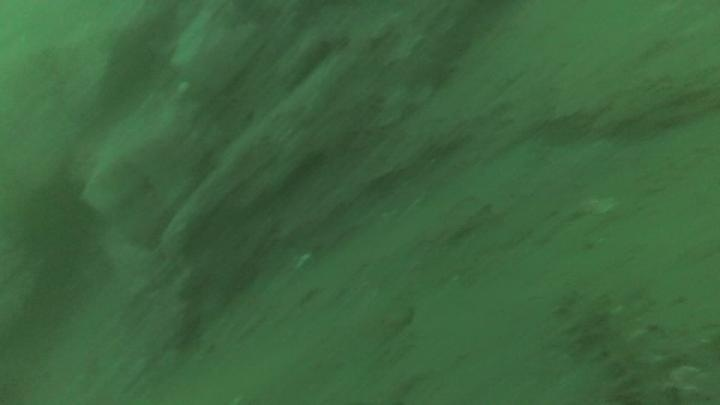holothurian: (552, 285, 689, 404)
